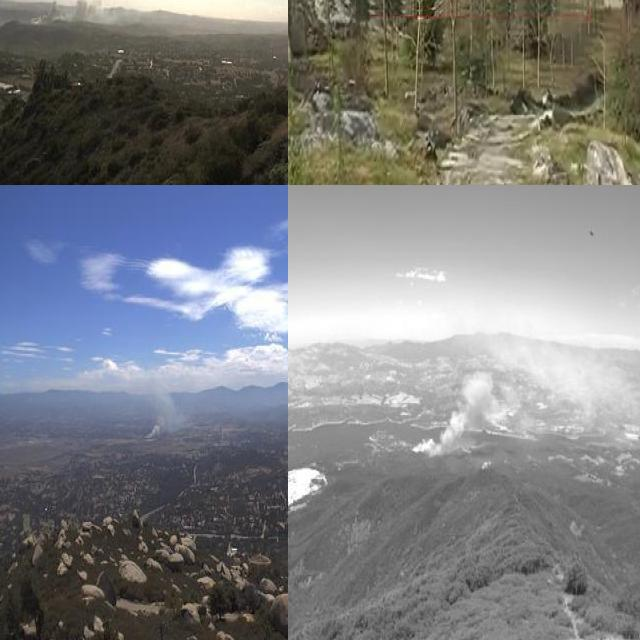smoke: (403, 332, 630, 460), (142, 371, 193, 442), (25, 0, 124, 30)
